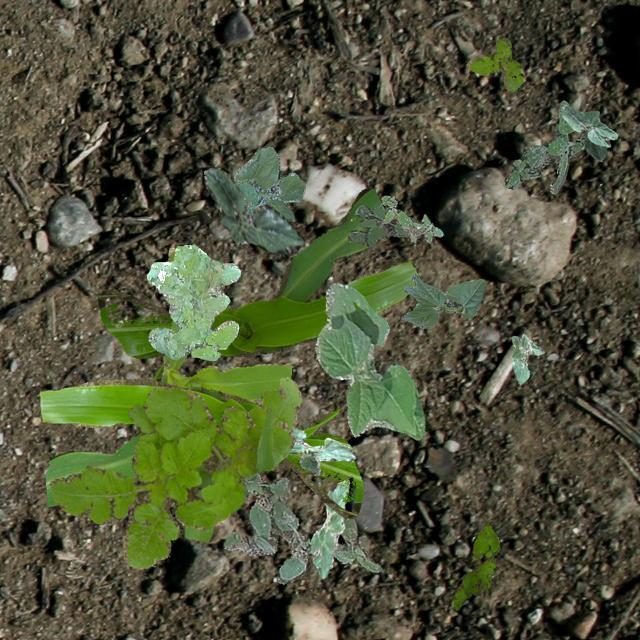crop: (96, 186, 416, 380), (40, 377, 362, 518), (160, 246, 290, 542), (314, 282, 424, 438), (202, 166, 304, 252), (232, 144, 304, 218), (400, 274, 484, 328), (310, 478, 348, 578), (288, 426, 354, 474), (560, 104, 616, 160), (509, 332, 544, 382)
weed: (48, 376, 302, 568), (222, 472, 382, 582), (146, 243, 240, 359), (502, 100, 584, 194), (452, 524, 498, 608), (466, 36, 522, 90), (381, 194, 442, 242), (347, 204, 408, 248)
